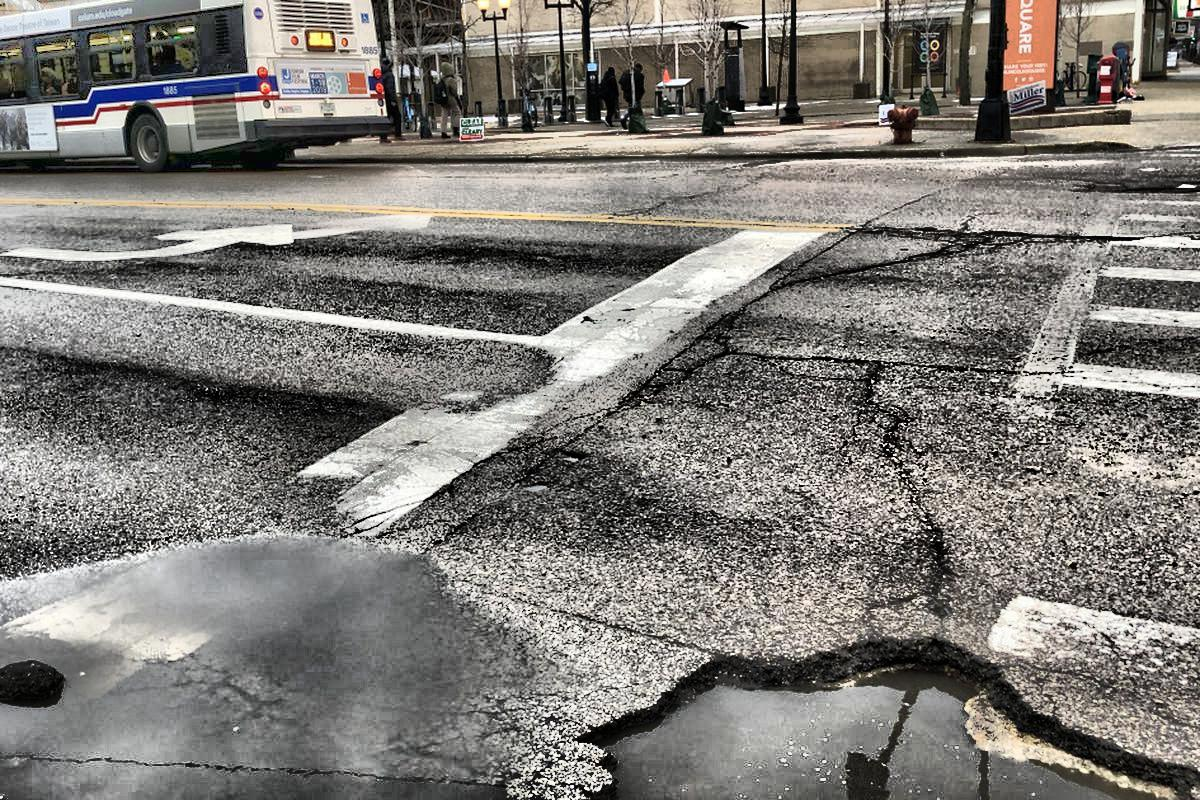pothole: (549, 641, 1200, 800)
